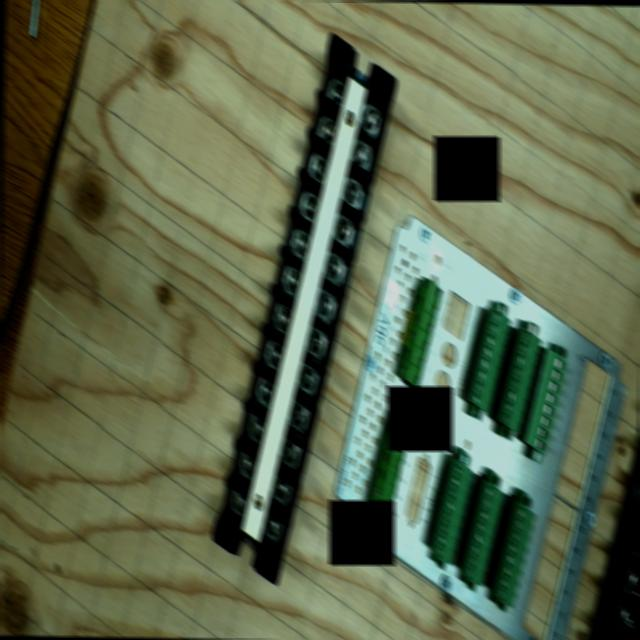Flathead_Block: (204, 33, 403, 584)
Terminal_1: (394, 276, 445, 387), (365, 411, 413, 522)
Terminal_2: (491, 501, 538, 607), (496, 327, 543, 433), (466, 307, 513, 412), (460, 480, 506, 586), (430, 459, 475, 564)
